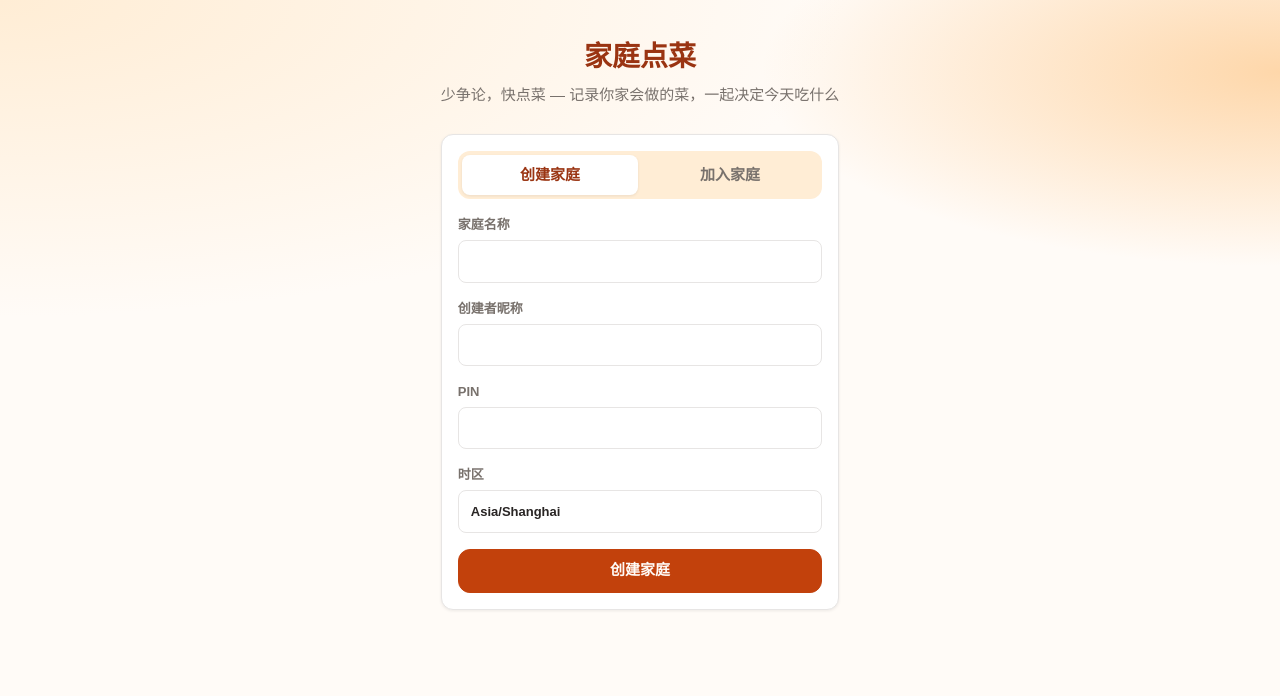
Test: OnboardingPage › creates a household and reveals the invite code
Type "我家" into the field labelled "家庭名称" at {"x": 640, "y": 261}, box [458,240,822,283]
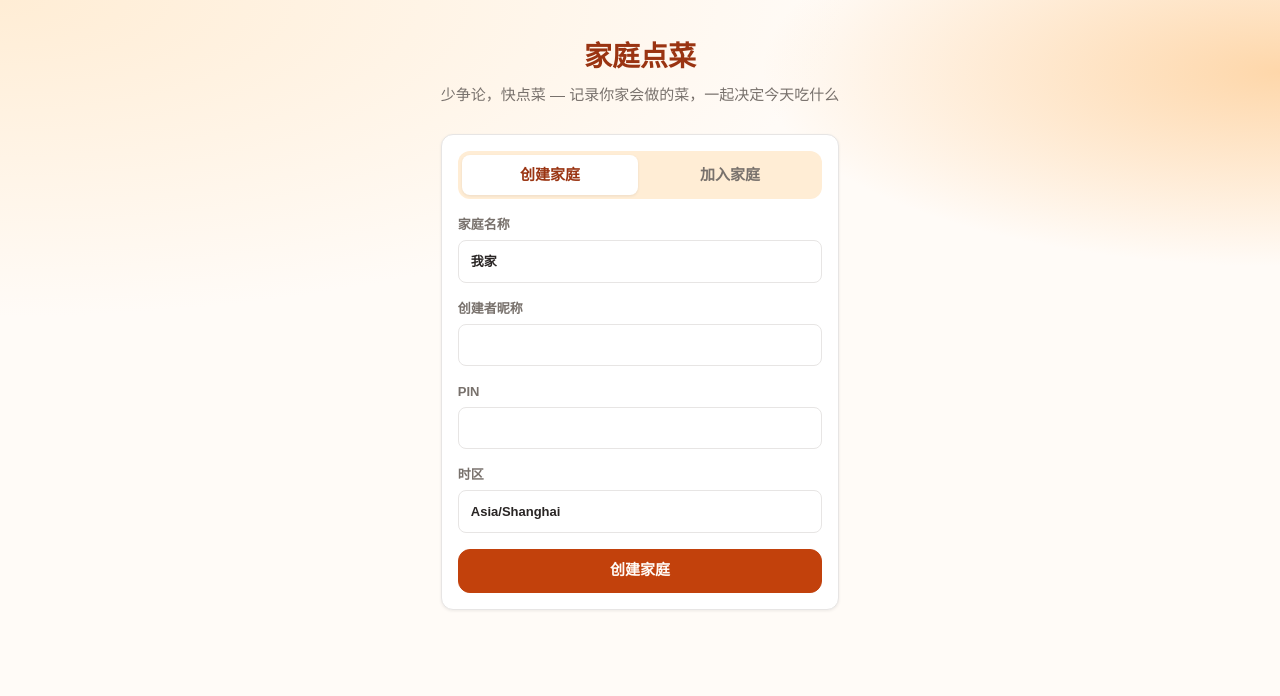
Type "小林" into the field labelled "创建者昵称" at {"x": 640, "y": 345}, box [458,324,822,366]
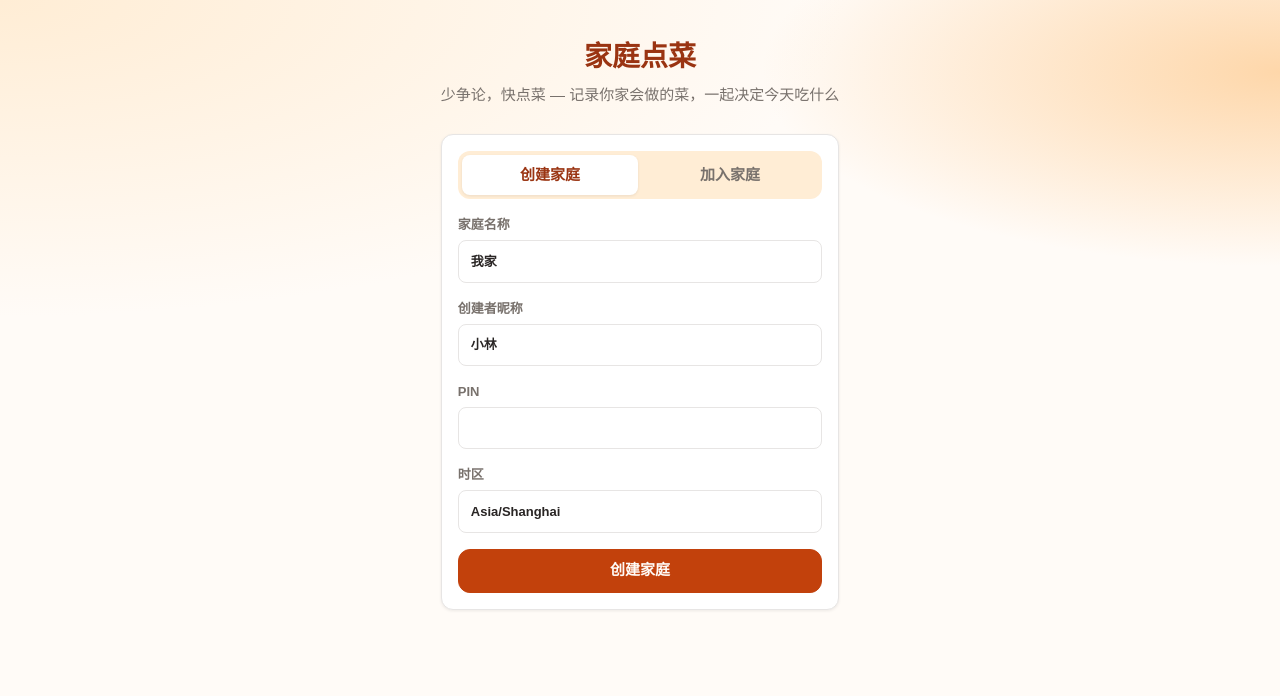
Type "1234" into the password field labelled "PIN" at {"x": 640, "y": 428}, box [458,407,822,449]
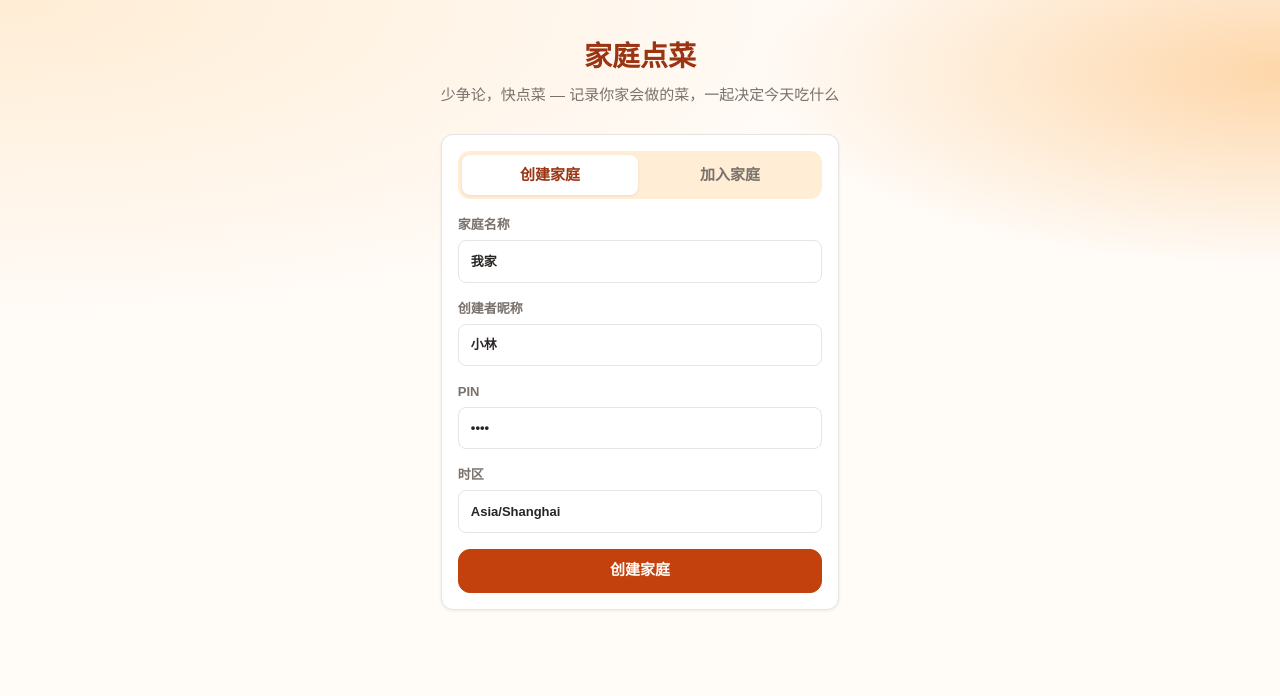
Submit the form "创建家庭", box [458,215,822,593]
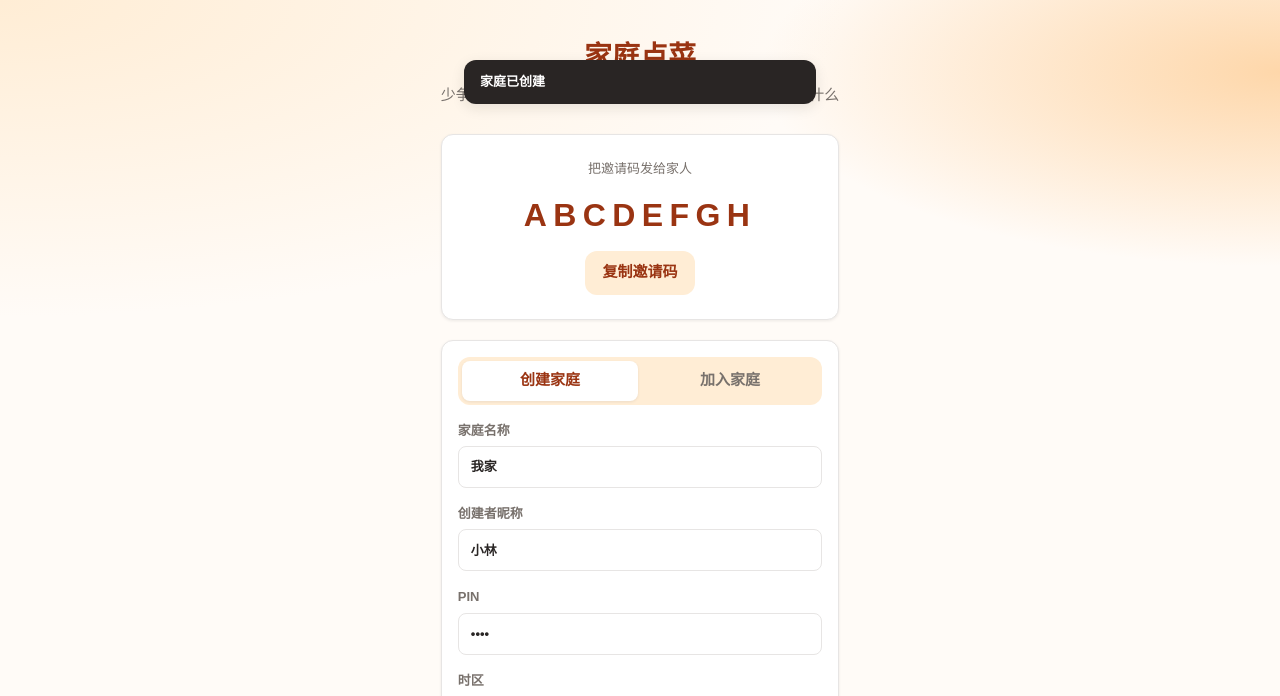
Expected: the text with test id "invite-code" reads "ABCDEFGH", [524,197,756,233]
